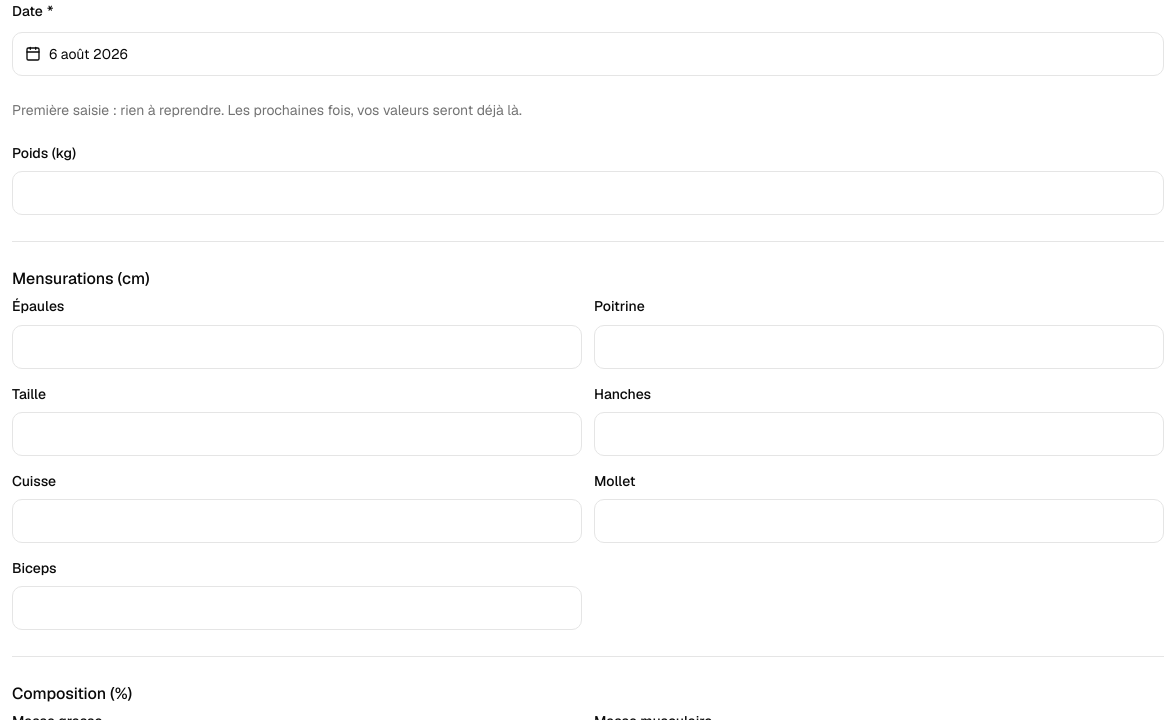
Test: MeasurementSessionForm — submission › shows a field error under the date field on 400, exactly like any other field
Type "82,4" into the field labelled "Poids (kg)" at x=588, y=193, box [12,171,1164,215]
(page scrolled)
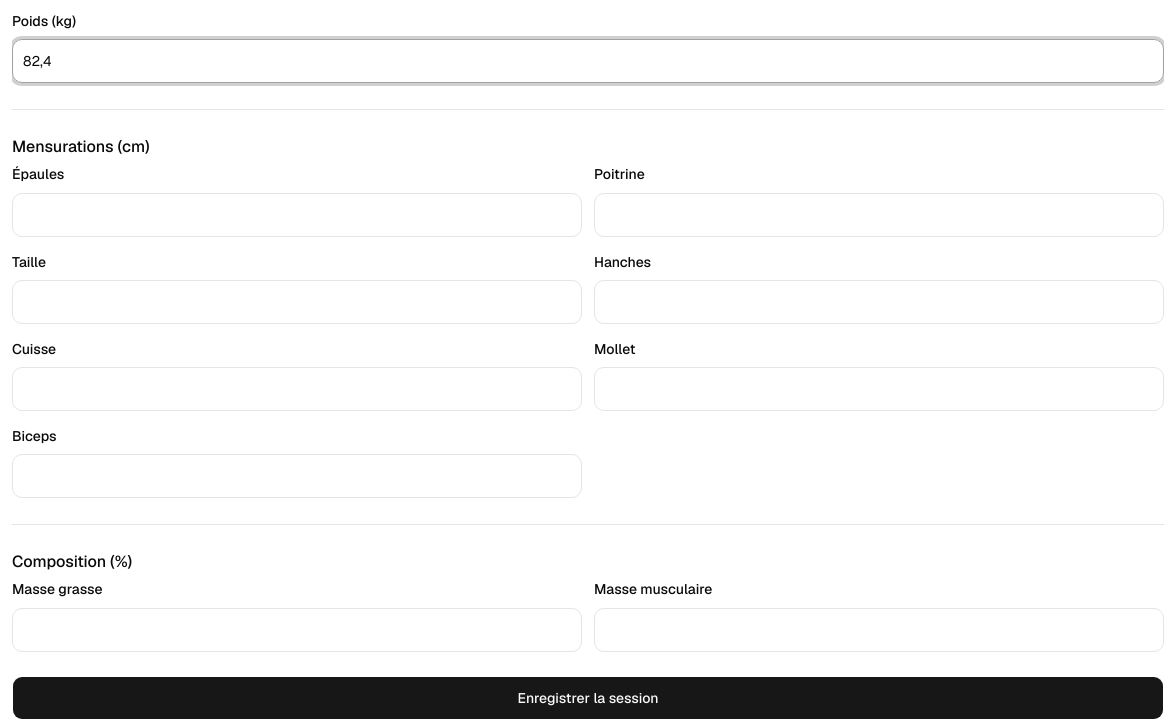
Click the button "Enregistrer la session" at x=588, y=698, box [12,676,1164,719]
(page scrolled)
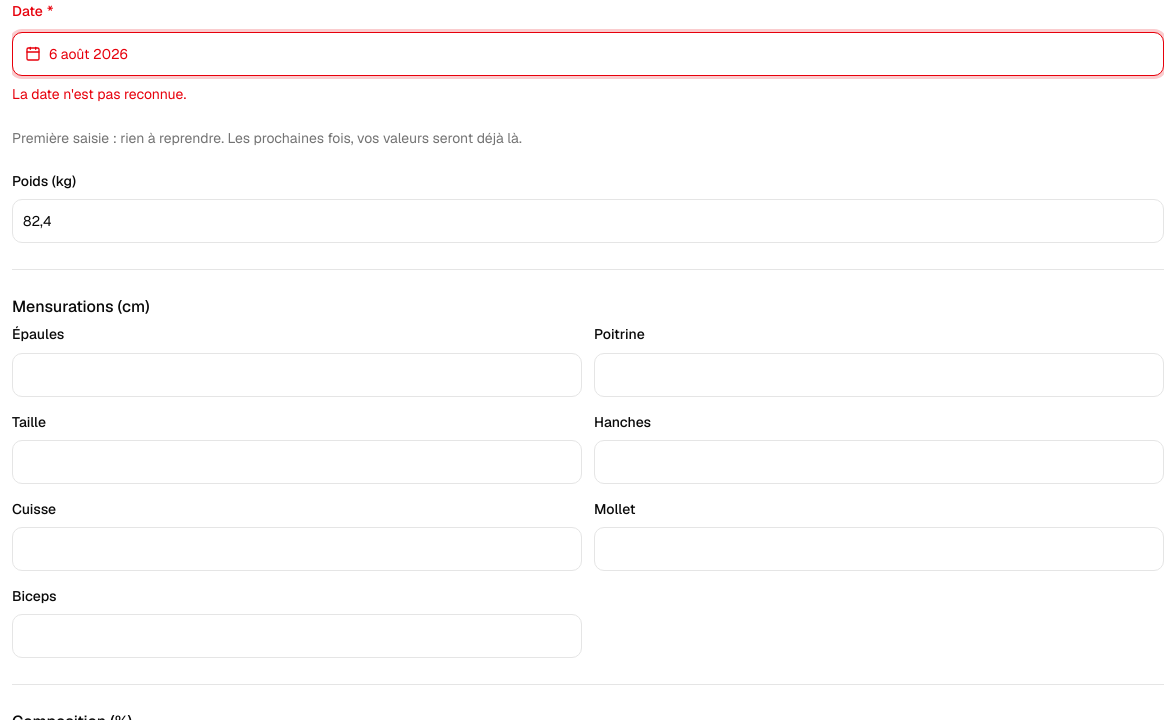
Check: the text "La date n'est pas reconnue." is shown, box [12,85,186,103]
